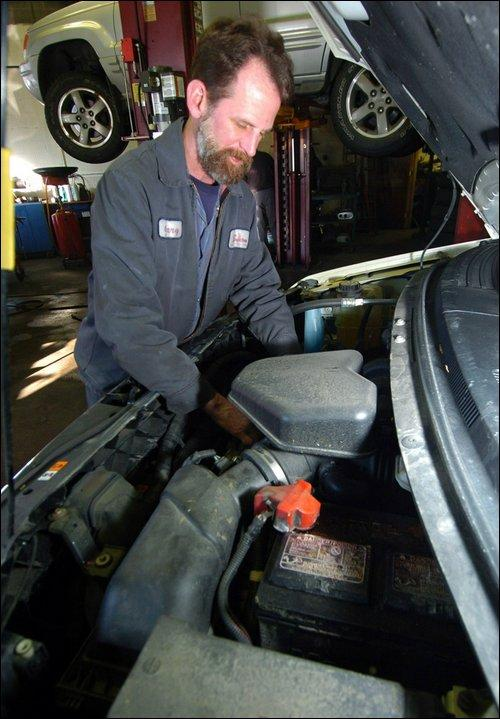person: (69, 12, 298, 443)
